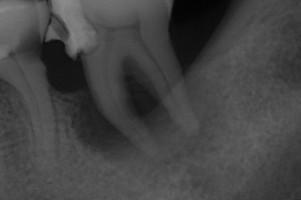Dental Caries: (71, 57, 230, 182)
